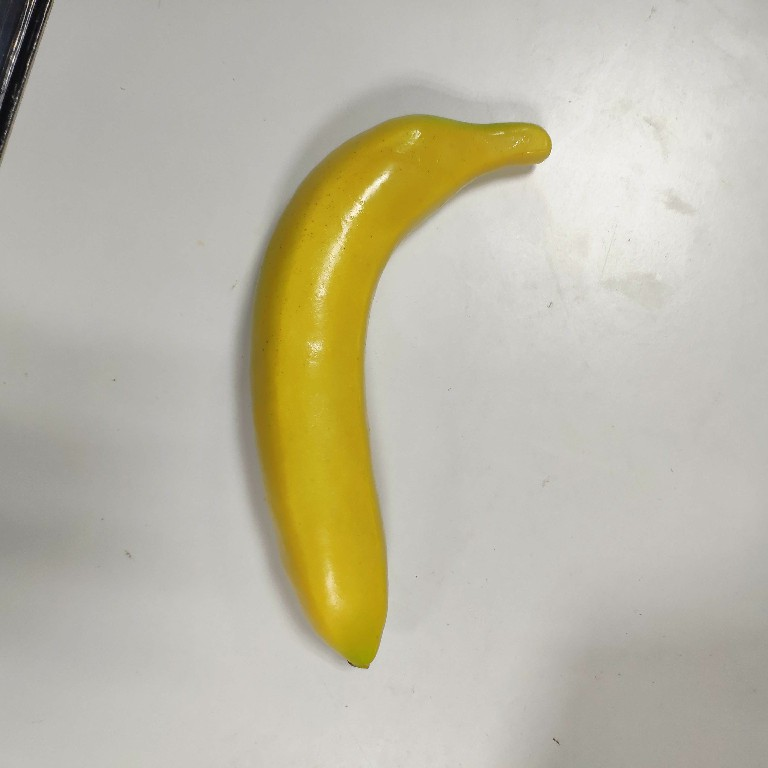fruit_banana: (246, 109, 556, 673)
